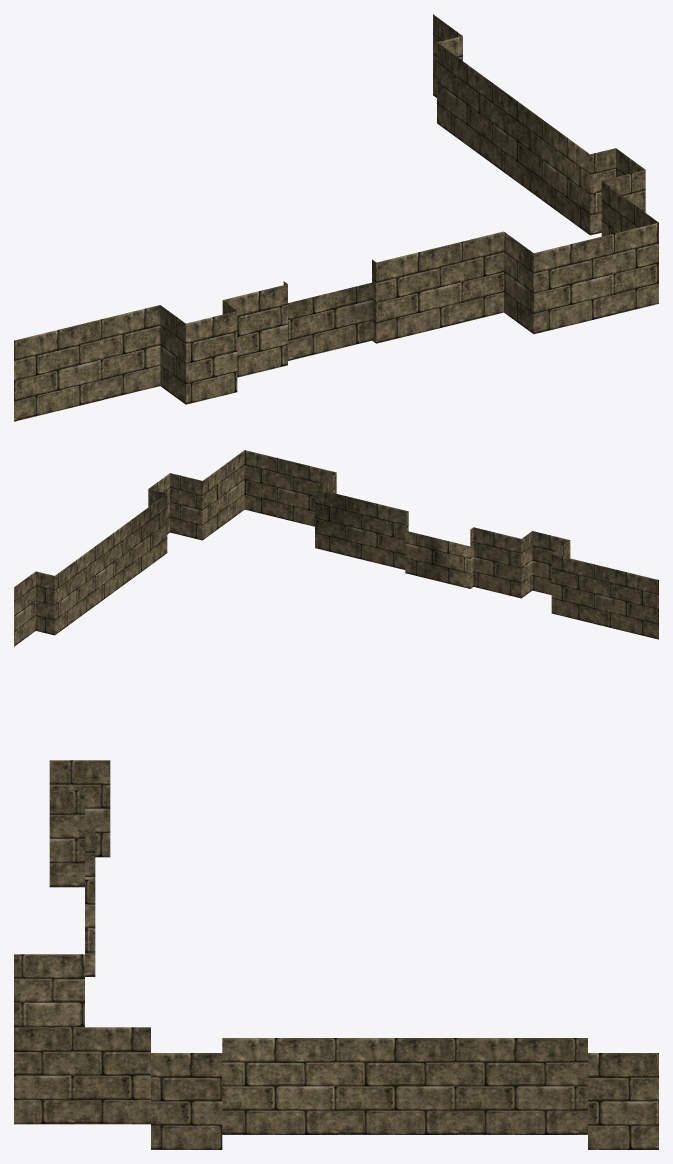
File: OVERHILL_A_01_LINE144.fbx
3 renders of one model, top to bottom at view 1: azimuth 30°, elevation 25°; view 2: azimuth 150°, elevation 25°; view 3: azimuth 270°, elevation 25°, orthographic. The views are drawn at different scales.
Parts seen in each view (by area): view 1: OVERHILL_A_01_LINE144; view 2: OVERHILL_A_01_LINE144; view 3: OVERHILL_A_01_LINE144.
Boxes of the visible parts, x1=… form: OVERHILL_A_01_LINE144: x1=14, y1=14, x2=658, y2=421; OVERHILL_A_01_LINE144: x1=14, y1=450, x2=658, y2=646; OVERHILL_A_01_LINE144: x1=14, y1=760, x2=658, y2=1149.
Bounding box in the file's own units: 176129 × 21050 × 127003.
1 material, 1 textured.
